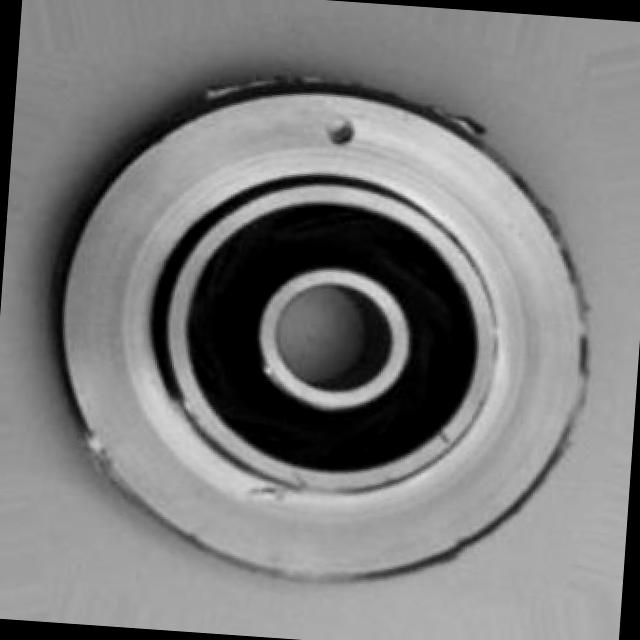Defect: (325, 112, 360, 150)
